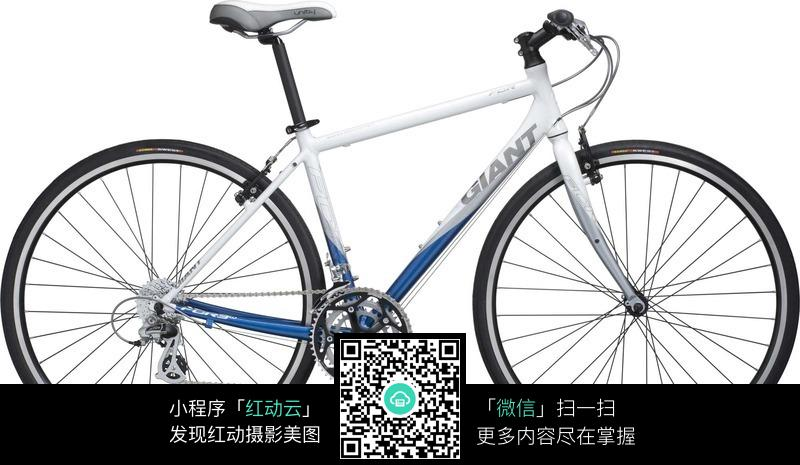MNV: (4, 2, 798, 383)
